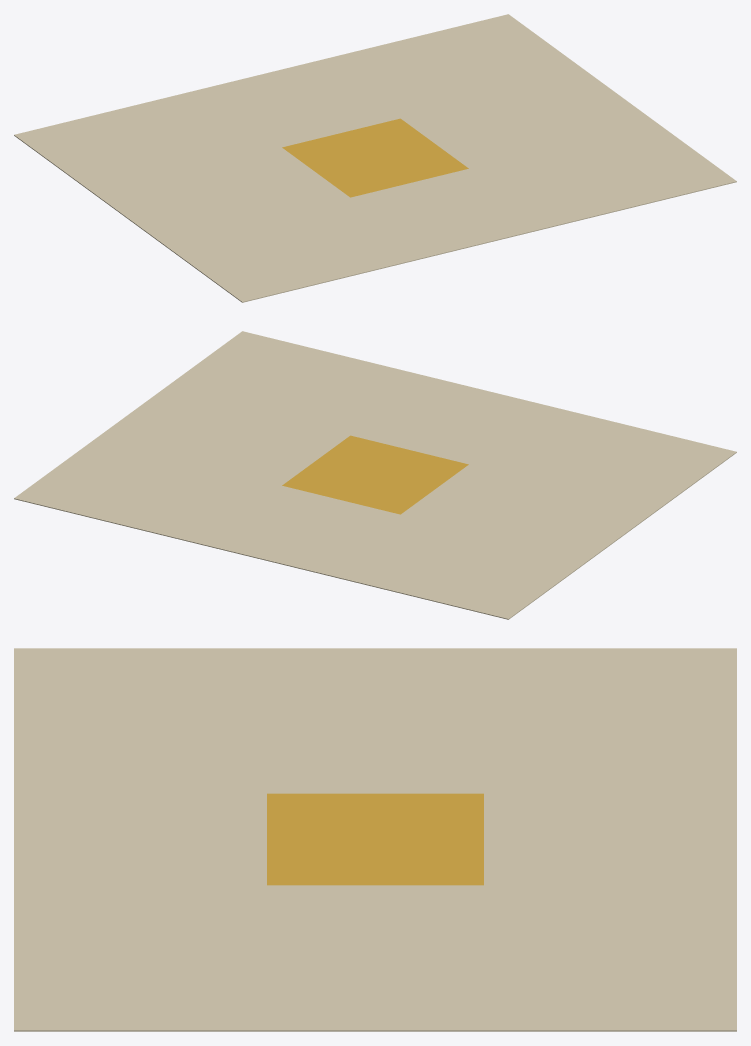
Rendered from paper.glb.
3 renders of one model, top to bottom at view 1: azimuth 30°, elevation 25°; view 2: azimuth 150°, elevation 25°; view 3: azimuth 270°, elevation 25°, orthographic. The views are drawn at different scales.
Parts seen in each view (by area): view 1: ActualPaperTopOutsideMark, ActualTransferredLayer, ActualPaperSubstrate; view 2: ActualPaperTopOutsideMark, ActualTransferredLayer, ActualPaperSubstrate; view 3: ActualPaperTopOutsideMark, ActualTransferredLayer, ActualPaperSubstrate.
Part boxes in pixels (box(x1,y1,x2,y2)): ActualPaperTopOutsideMark: box(14, 14, 736, 301); ActualTransferredLayer: box(282, 118, 468, 197); ActualPaperSubstrate: box(14, 135, 736, 302); ActualPaperTopOutsideMark: box(14, 331, 736, 618); ActualTransferredLayer: box(282, 435, 468, 514); ActualPaperSubstrate: box(14, 452, 736, 619); ActualPaperTopOutsideMark: box(14, 648, 736, 1030); ActualTransferredLayer: box(267, 793, 483, 885); ActualPaperSubstrate: box(14, 1030, 736, 1031).
Size of the model in its own units: 0.5 by 0.0008 by 0.4.
